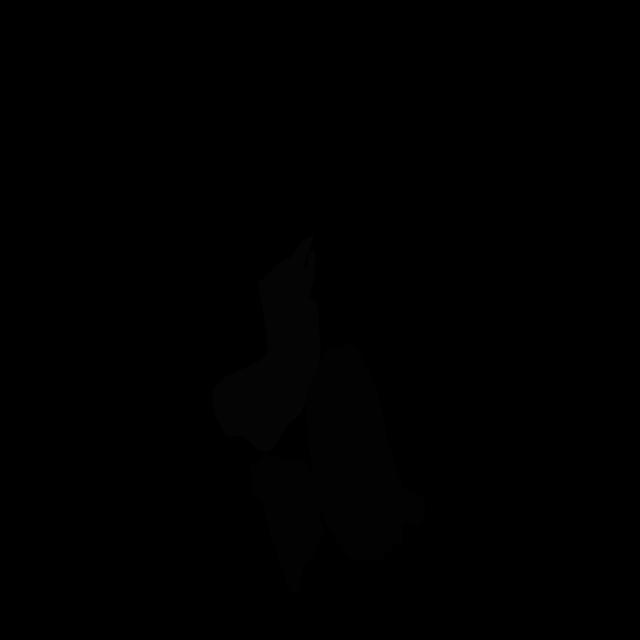cardboard: (305, 345, 425, 561), (249, 454, 324, 594)
soft_plastic: (212, 235, 321, 452)
